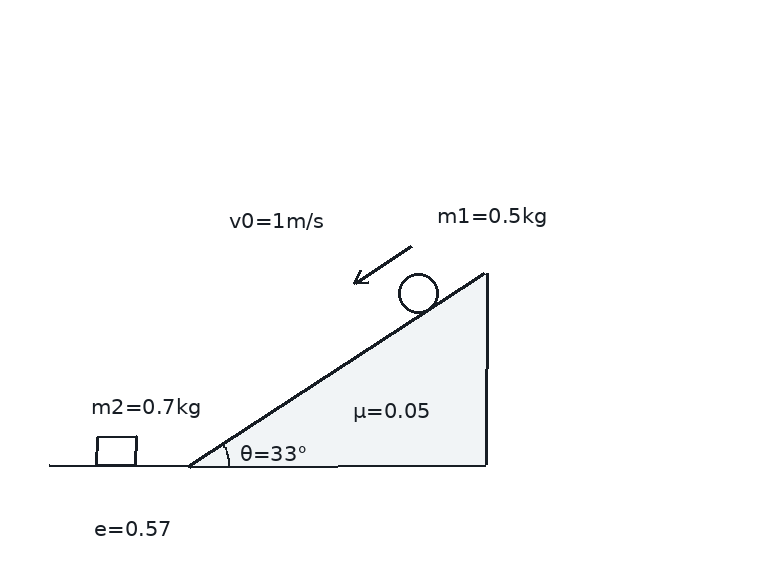ball: (396, 271, 440, 315)
block: (94, 434, 138, 467)
ramp: (187, 270, 488, 467)
